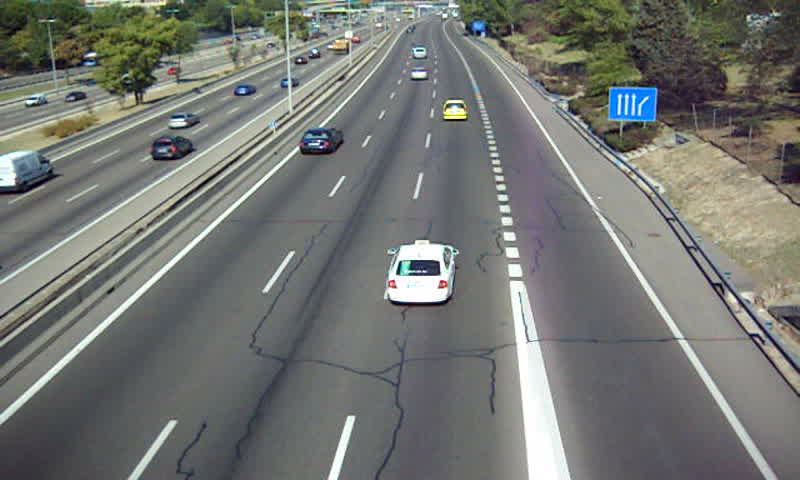car: (386, 241, 455, 304), (300, 128, 342, 152), (442, 100, 468, 123), (410, 65, 428, 80)
